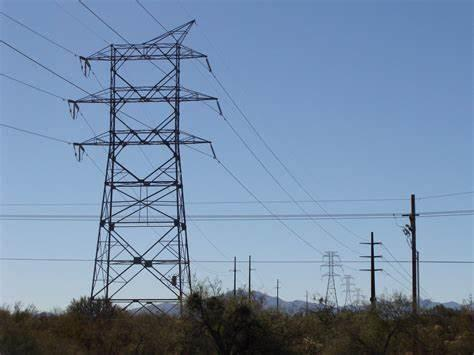power_tower: (59, 13, 222, 322)
